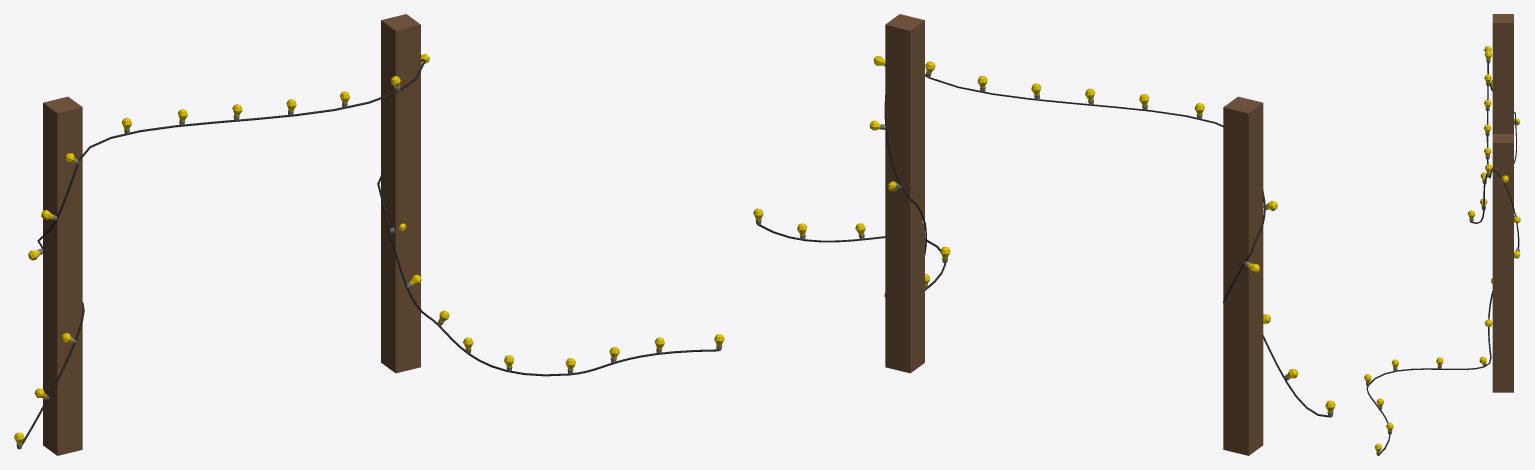
Rendered from LightsWire.fbx.
3 renders of one model, left to right at view 1: azimuth 30°, elevation 25°; view 2: azimuth 150°, elevation 25°; view 3: azimuth 270°, elevation 25°, orthographic. The views are drawn at different scales.
Visible parts, largest first — view 1: Pillars, LightCurve.001; view 2: Pillars, LightCurve.001; view 3: Pillars, LightCurve.001.
Boxes of the visible parts, x1,y1,x2,y2 form: Pillars: [43, 14, 420, 455]; LightCurve.001: [14, 53, 724, 449]; Pillars: [885, 14, 1263, 455]; LightCurve.001: [753, 56, 1335, 417]; Pillars: [1492, 14, 1513, 392]; LightCurve.001: [1364, 46, 1520, 455].
Bounding box in the file's own units: 987 × 501 × 285.
